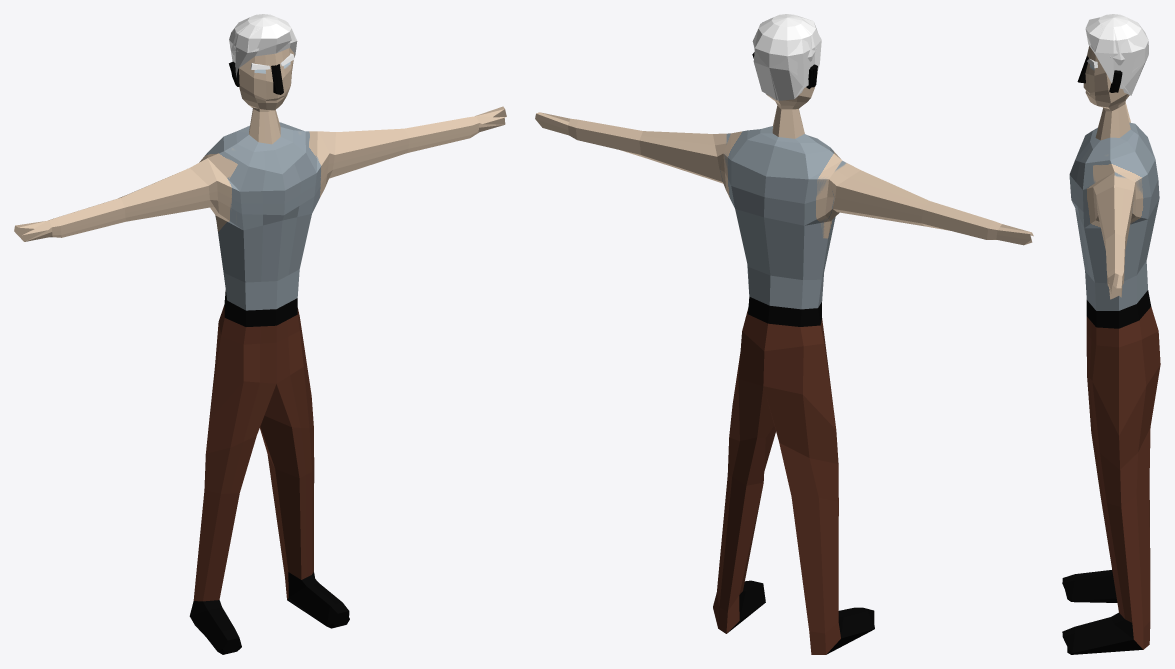
Rendered from npc.fbx.
3 renders of one model, left to right at view 1: azimuth 30°, elevation 25°; view 2: azimuth 150°, elevation 25°; view 3: azimuth 270°, elevation 25°, orthographic.
Parts seen in each view (by area): view 1: cuerpo; view 2: cuerpo; view 3: cuerpo.
Boxes of the visible parts, x1,y1,x2,y2 form: cuerpo: [14, 14, 506, 654]; cuerpo: [535, 14, 1033, 654]; cuerpo: [1062, 14, 1160, 654].
Size of the model in its own units: 197 by 233 by 34.19.
